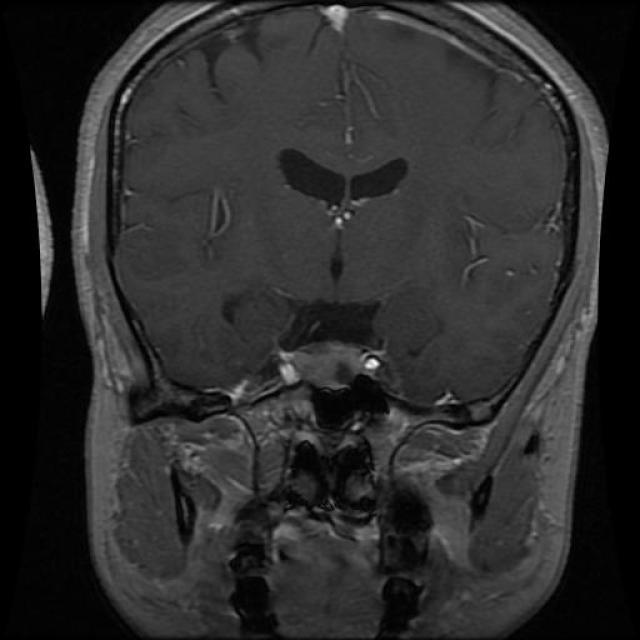pituitary: (274, 338, 388, 436)
